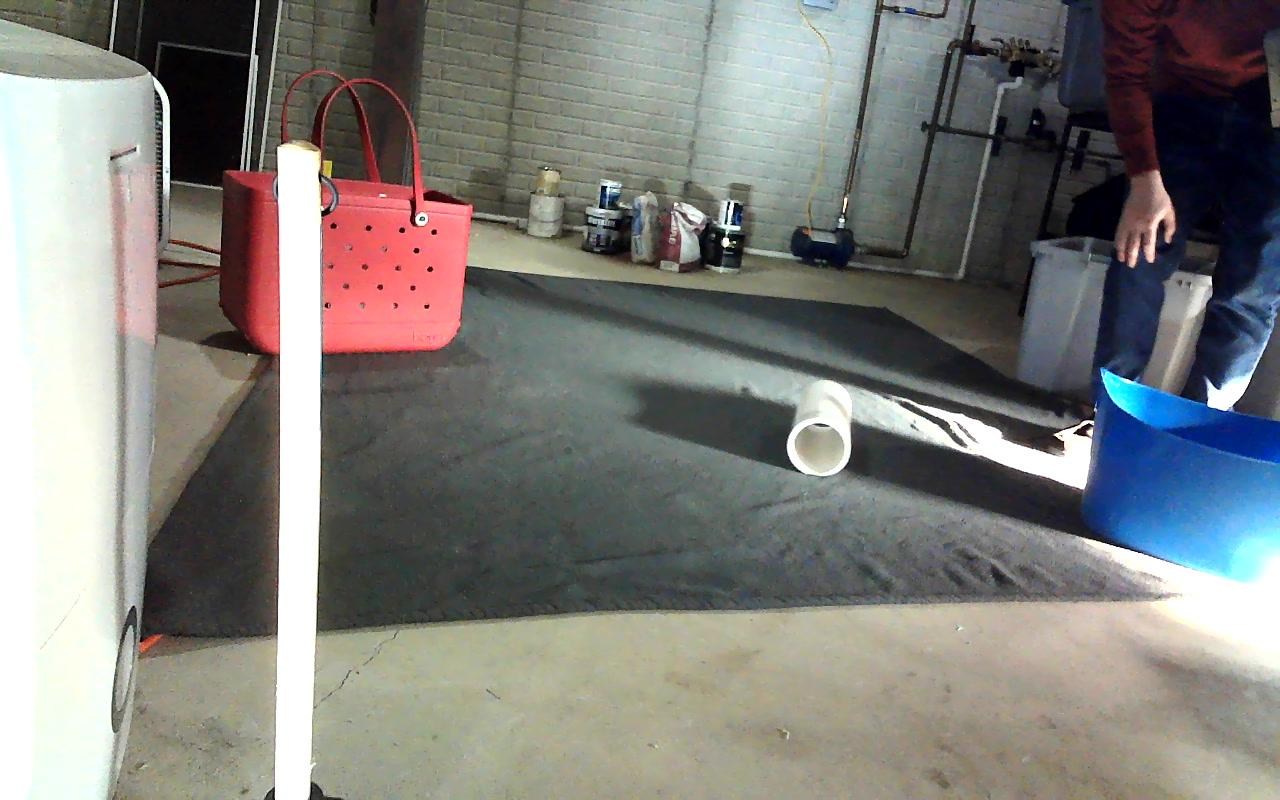coral: (786, 378, 852, 475)
